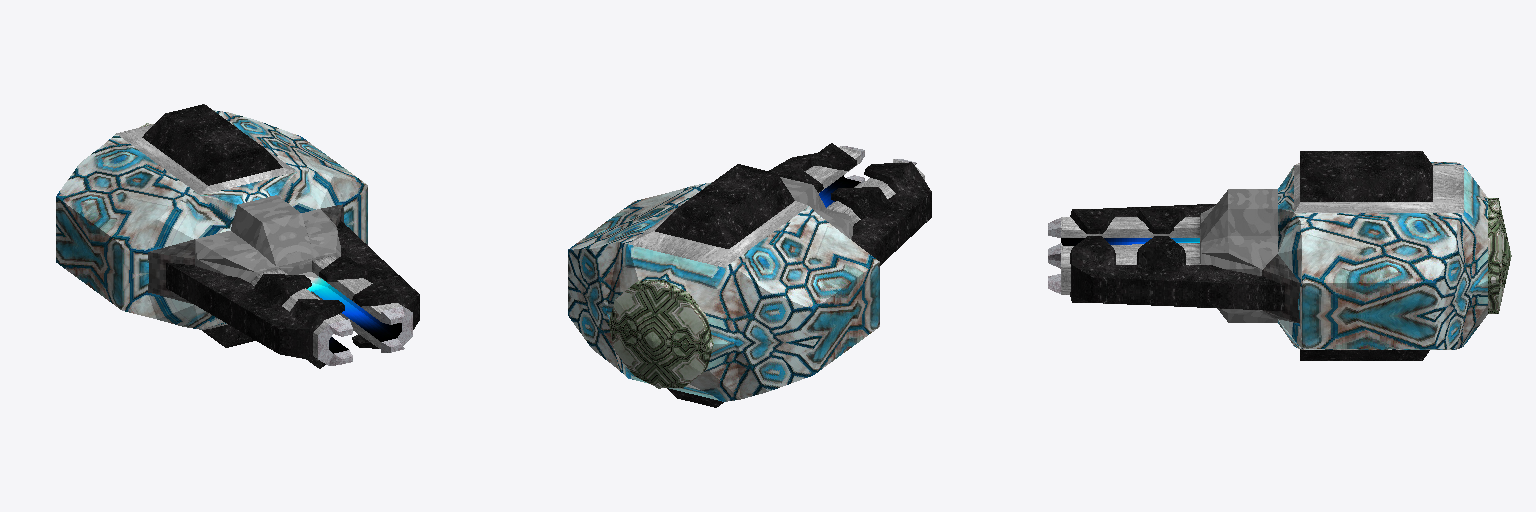
3 views of the same model, side by side, from view 1: azimuth 30°, elevation 25°; view 2: azimuth 150°, elevation 25°; view 3: azimuth 270°, elevation 25° (orthographic).
Visible parts, largest first — view 1: railGun_Cylinder.008; view 2: railGun_Cylinder.008; view 3: railGun_Cylinder.008.
Boxes of the visible parts, x1=… form: railGun_Cylinder.008: x1=56, y1=104, x2=419, y2=368; railGun_Cylinder.008: x1=568, y1=143, x2=931, y2=407; railGun_Cylinder.008: x1=1048, y1=151, x2=1511, y2=360.
Bounding box in the file's own units: 0.7647 × 0.5641 × 1.25.
2 materials, 1 textured.